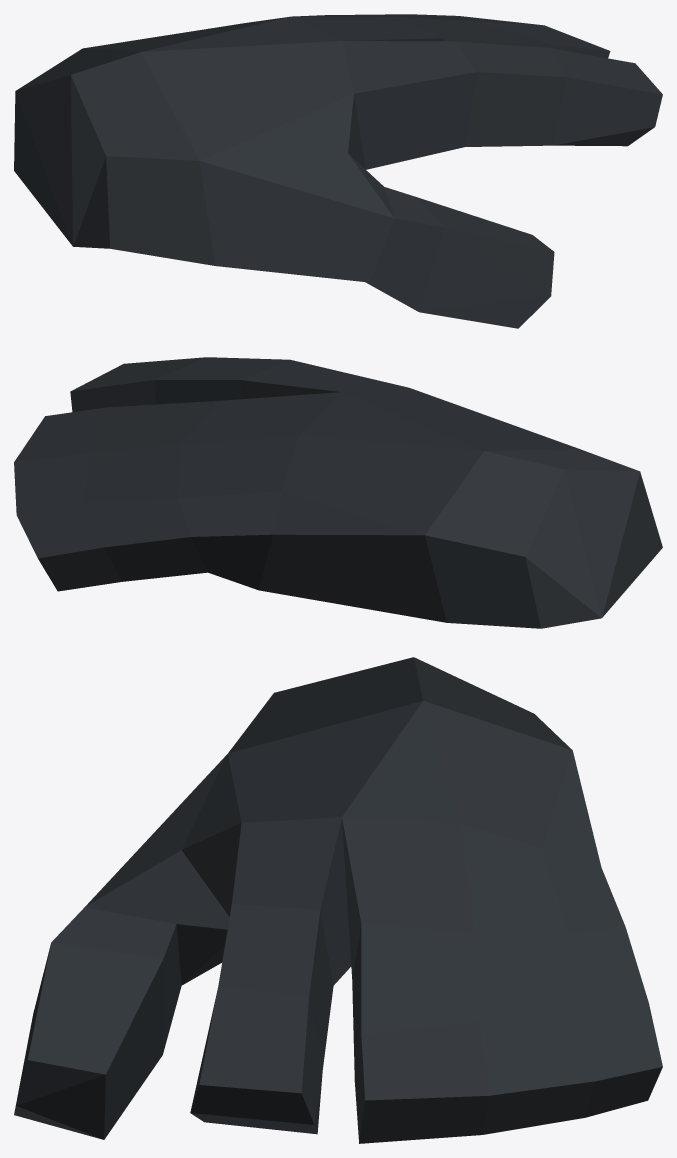
The model's file is Chr_HandLeft_Female_01_Static.fbx.
3 views of the same model, one above another, from view 1: azimuth 30°, elevation 25°; view 2: azimuth 150°, elevation 25°; view 3: azimuth 270°, elevation 25° (orthographic). The views are drawn at different scales.
Parts seen in each view (by area): view 1: Chr_HandLeft_Female_01_Static; view 2: Chr_HandLeft_Female_01_Static; view 3: Chr_HandLeft_Female_01_Static.
Part boxes in pixels (x1=…): Chr_HandLeft_Female_01_Static: x1=14, y1=14, x2=662, y2=328; Chr_HandLeft_Female_01_Static: x1=14, y1=357, x2=662, y2=628; Chr_HandLeft_Female_01_Static: x1=14, y1=657, x2=662, y2=1143.
Size of the model in its own units: 0.237 by 0.0952 by 0.188.
